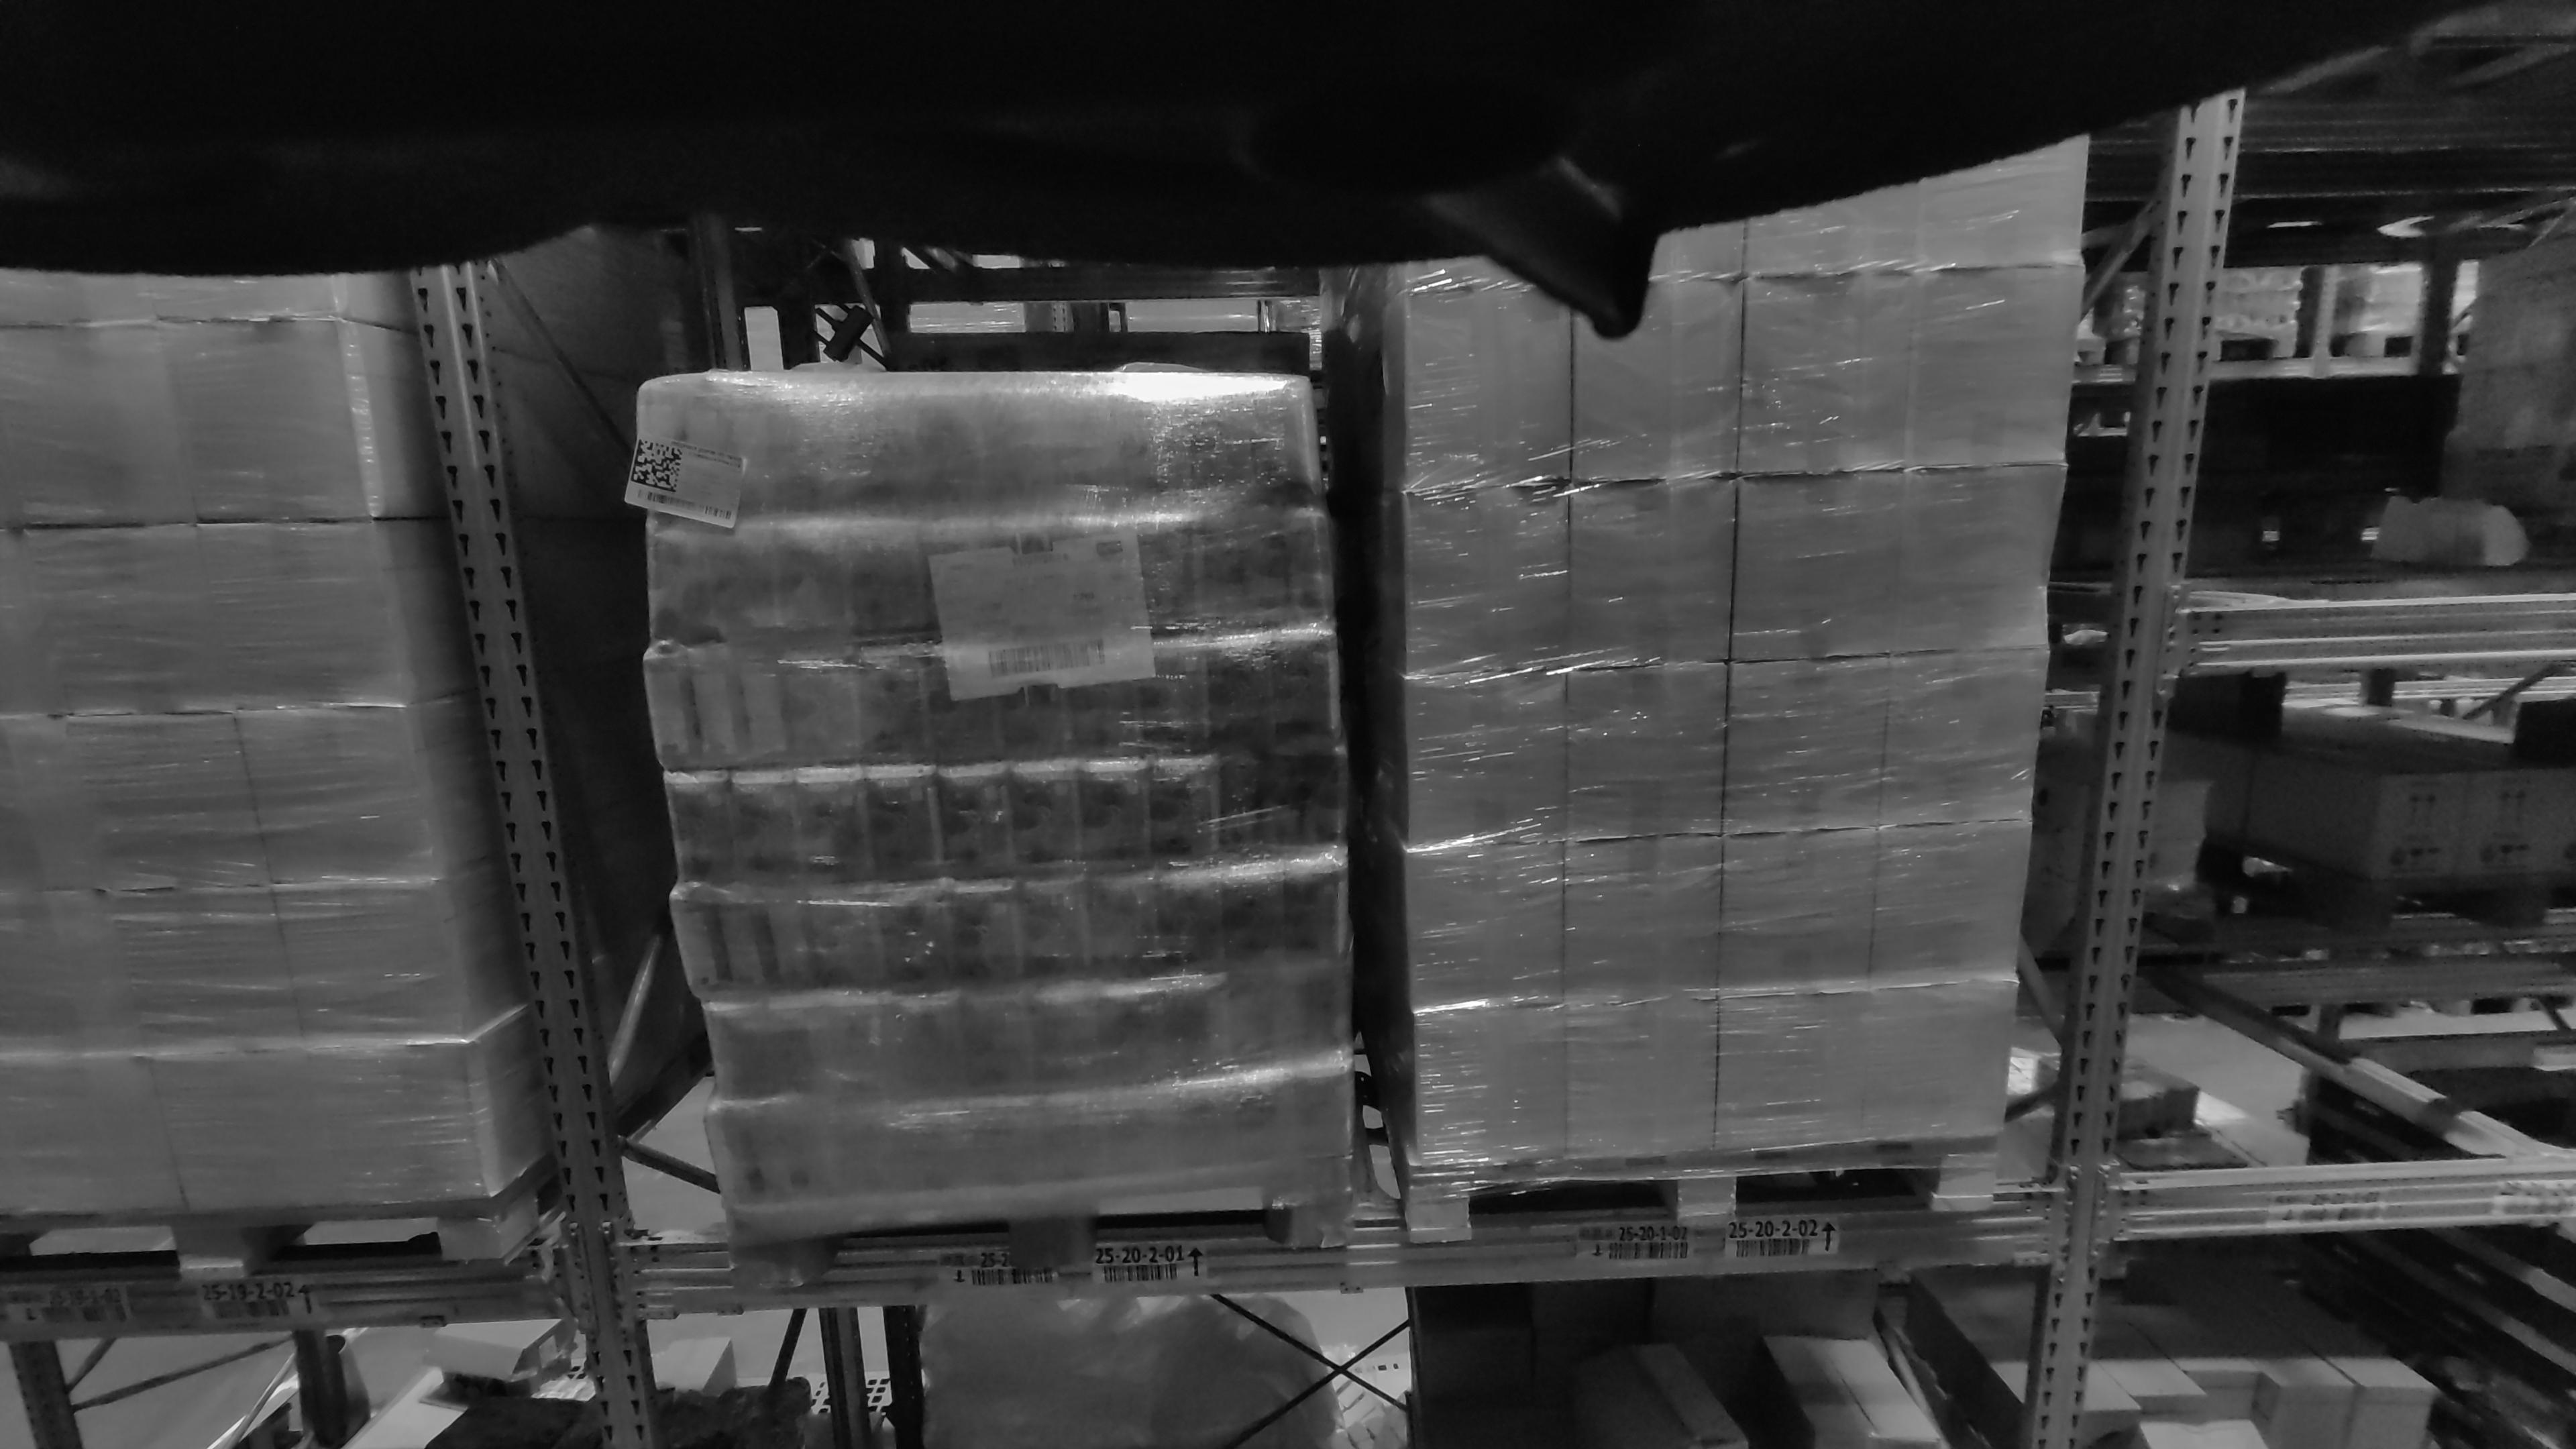empty-shelf: (2167, 706, 2576, 1168), (2201, 51, 2410, 596)
